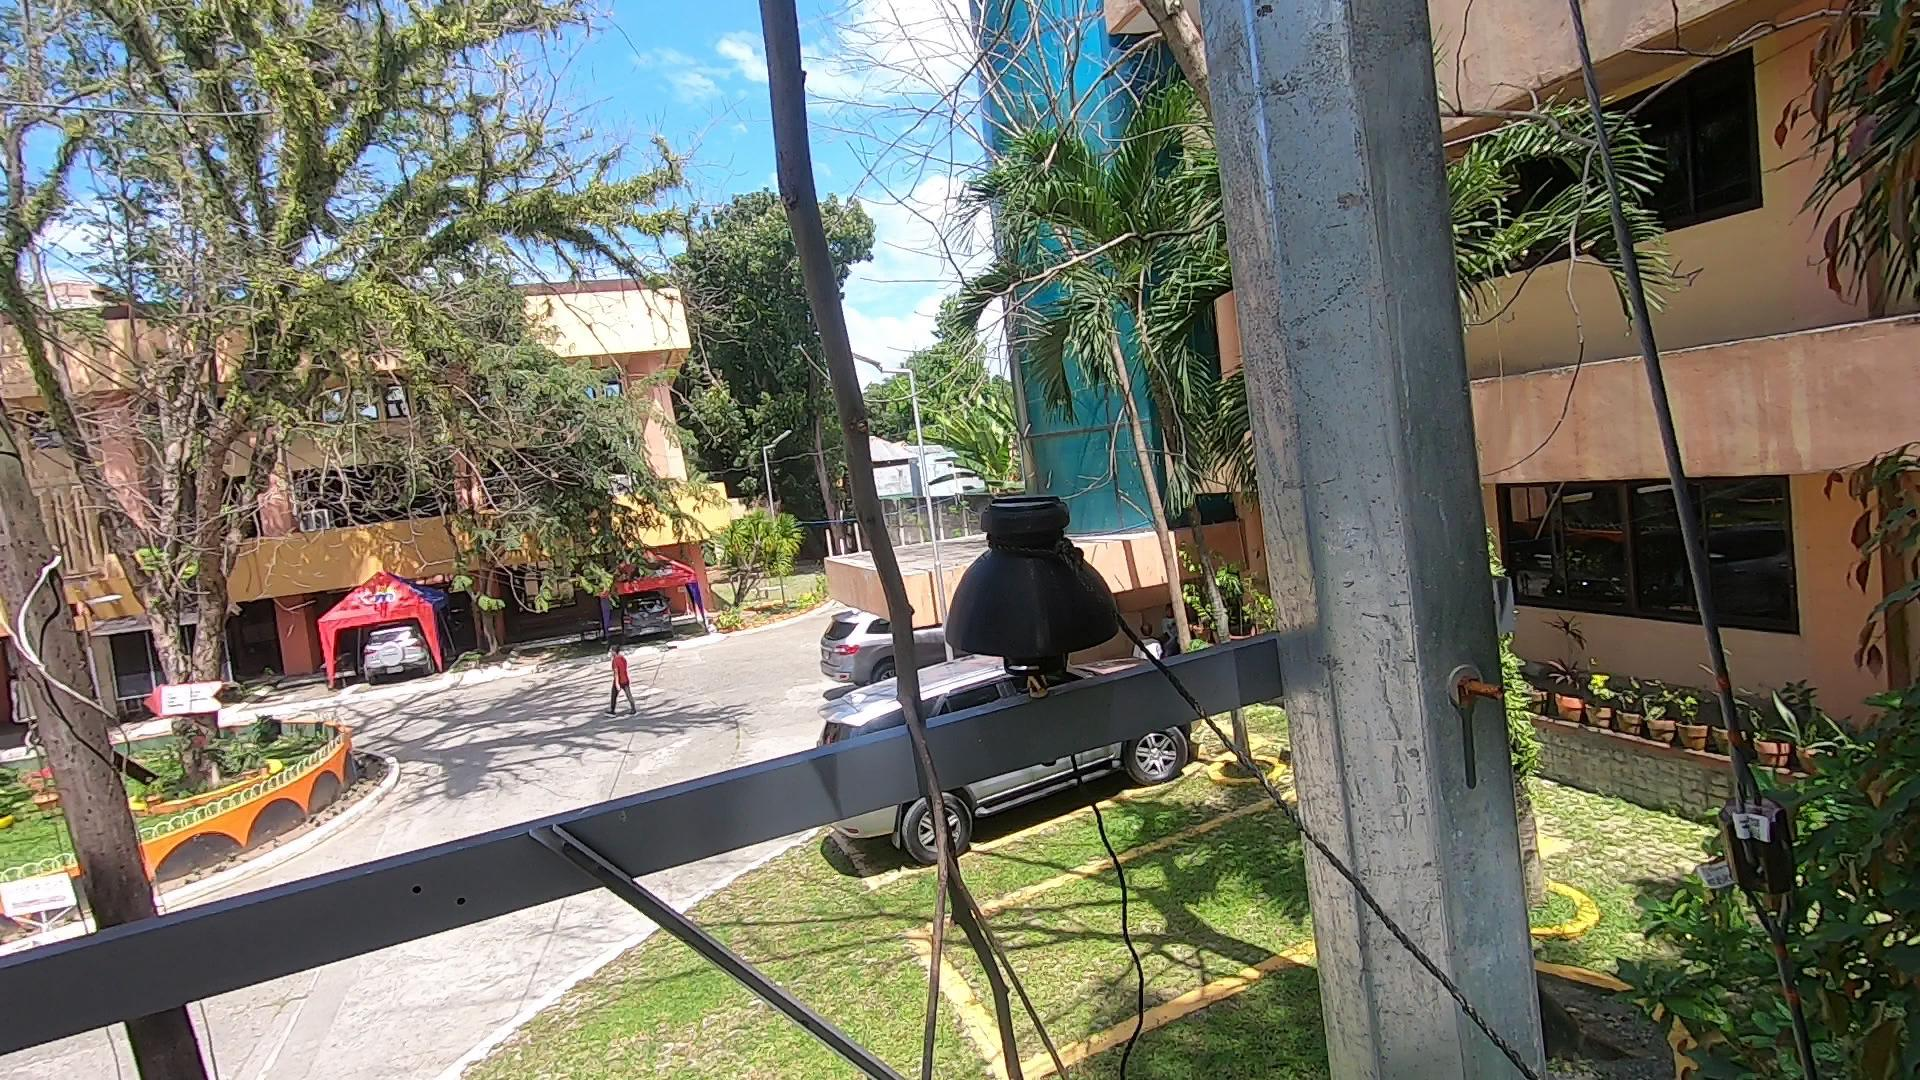tree branch: (699, 3, 1095, 1075)
